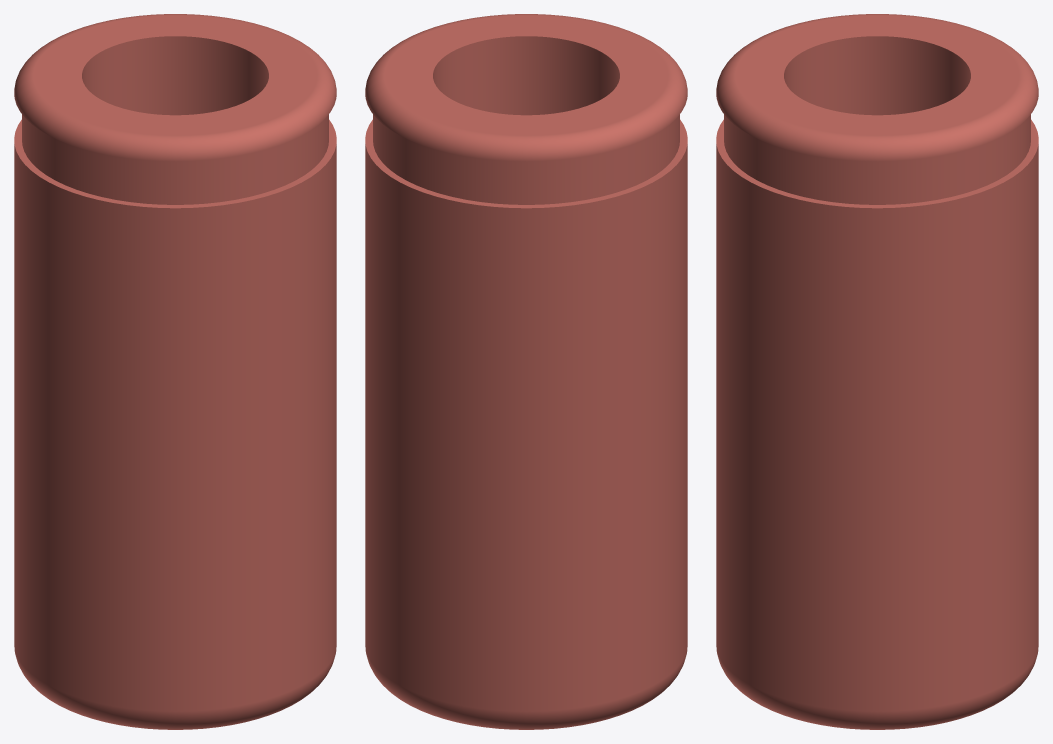
File: step_05.glb
3 views of the same model, side by side, from view 1: azimuth 30°, elevation 25°; view 2: azimuth 150°, elevation 25°; view 3: azimuth 270°, elevation 25° (orthographic).
Visible parts, largest first — view 1: part__float hull; view 2: part__float hull; view 3: part__float hull.
Boxes of the visible parts, box(x1,y1,x2,y2) form: part__float hull: box(14, 14, 336, 729); part__float hull: box(365, 14, 687, 729); part__float hull: box(716, 14, 1038, 729).
Bounding box in the file's own units: 500 × 1020 × 500.
